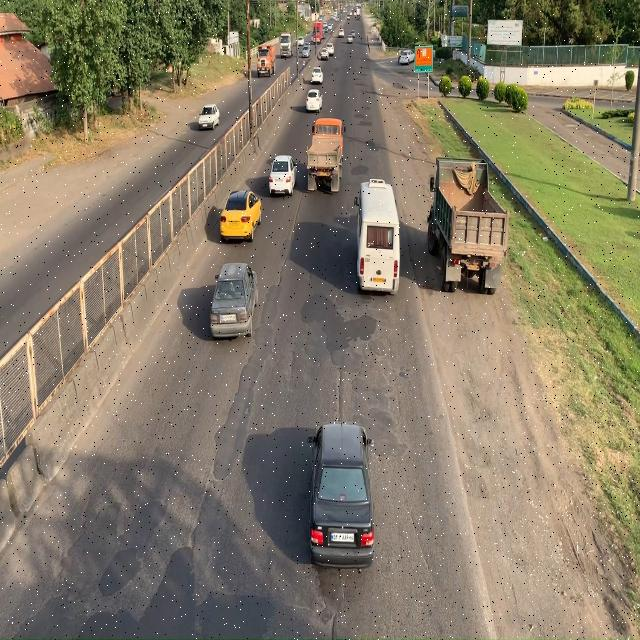Bus: (355, 178, 406, 296)
Truck: (425, 160, 510, 303), (304, 116, 346, 194)
cars: (304, 420, 377, 571), (203, 260, 260, 342), (216, 188, 261, 241), (268, 154, 298, 198), (198, 105, 220, 130)
